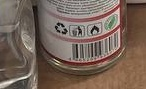1d: (71, 29, 119, 59)
